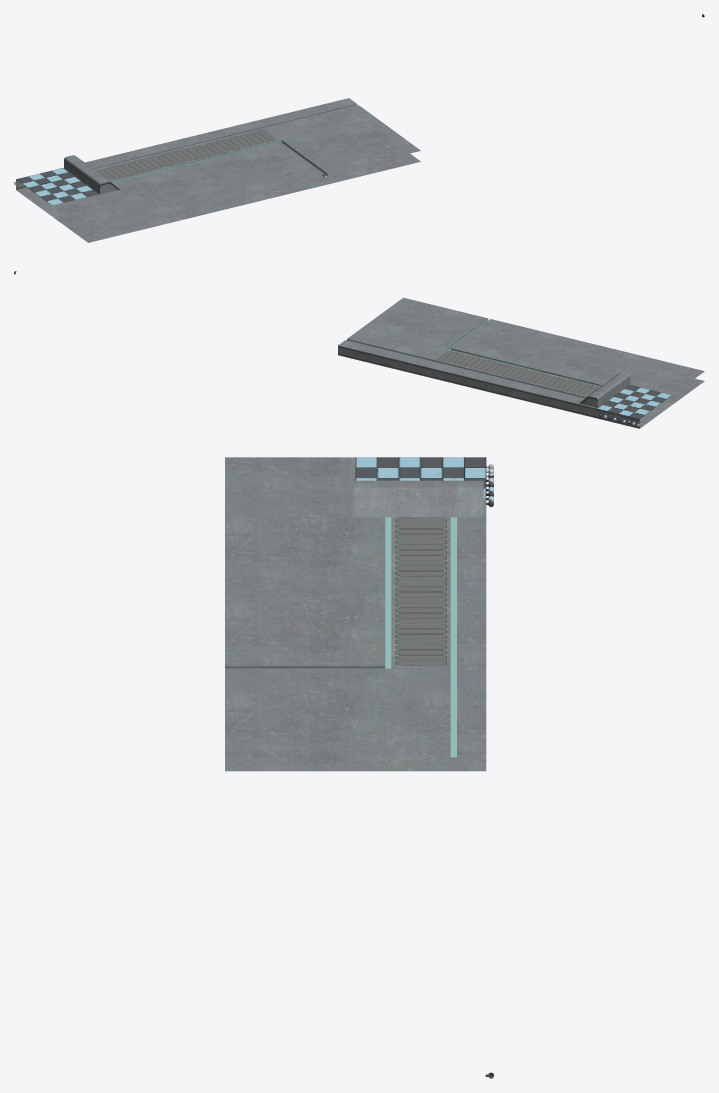
Rendered from Disco_BottomBoundary_Left.fbx.
3 renders of one model, top to bottom at view 1: azimuth 30°, elevation 25°; view 2: azimuth 150°, elevation 25°; view 3: azimuth 270°, elevation 25°, orthographic. The views are drawn at different scales.
Parts seen in each view (by area): view 1: BottomBoundary_Left; view 2: BottomBoundary_Left; view 3: BottomBoundary_Left.
Part boxes in pixels (bbox=[...]): BottomBoundary_Left: bbox=[14, 14, 704, 242]; BottomBoundary_Left: bbox=[14, 271, 704, 428]; BottomBoundary_Left: bbox=[225, 457, 493, 1078].
Size of the model in its own units: 66.18 by 2 by 12.36.
